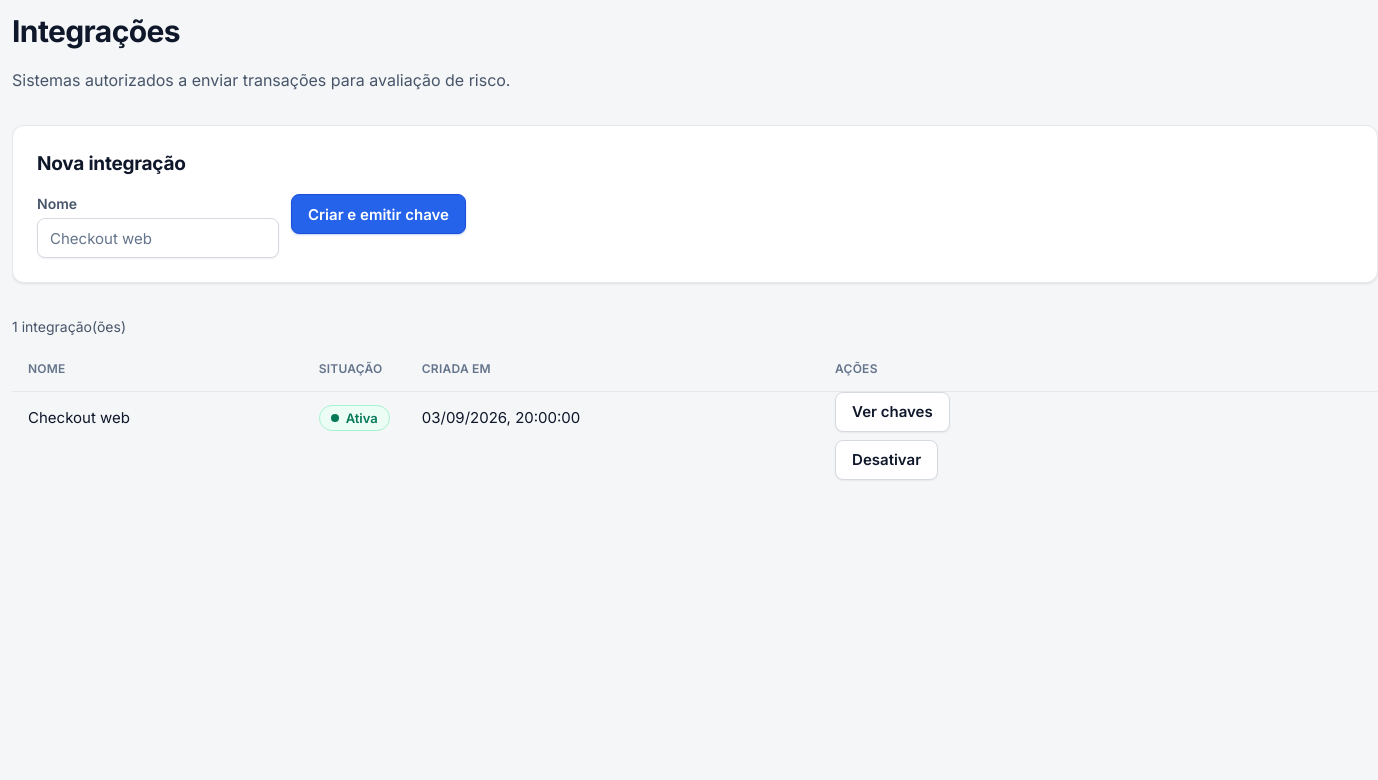
Test: PaginaDeIntegracoes › credencial revogada aparece com o motivo e sem botão de revogar
This screenshot has width=1378, height=780.
Expected: the column heading "Checkout web" is shown, [12,391,303,444]
Click the button "Ver chaves": {"x": 892, "y": 412} [835,392,950,432]
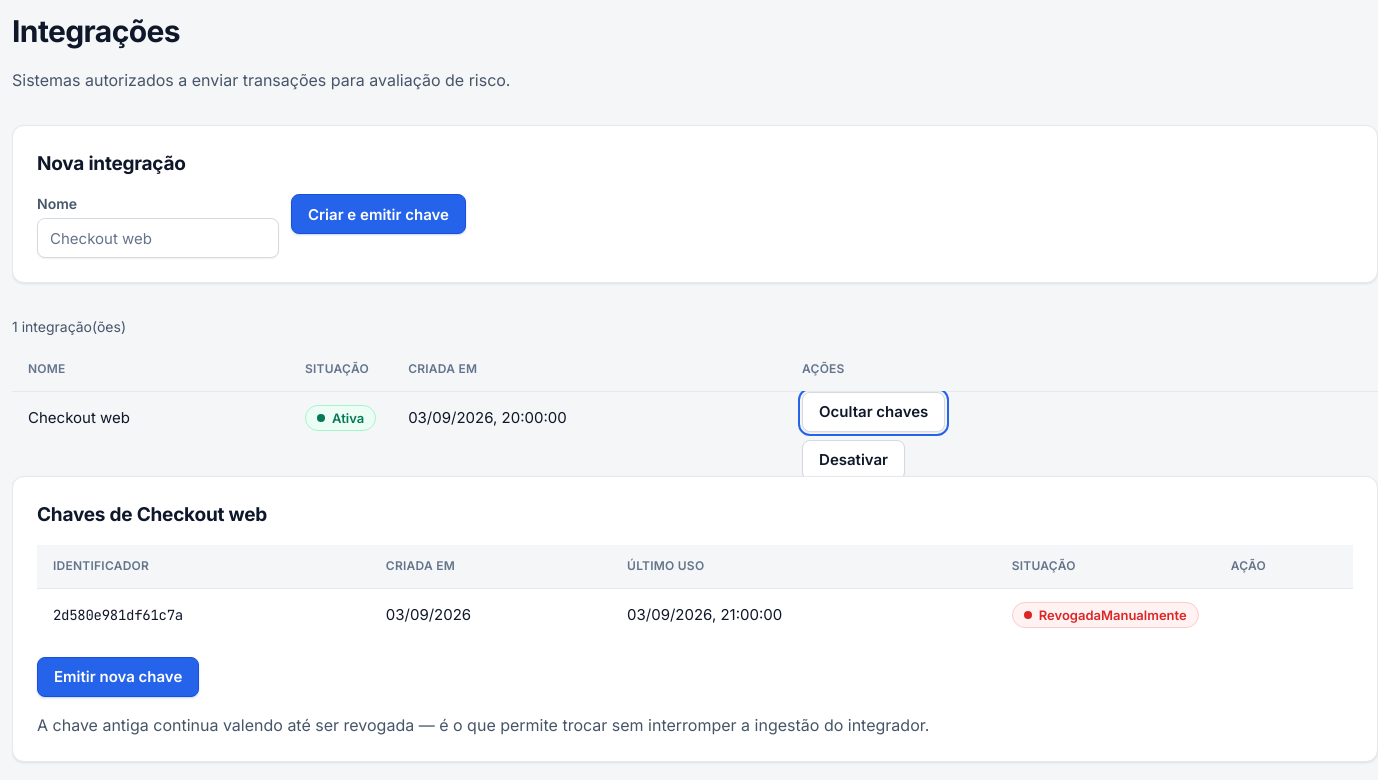
Expected: the text "RevogadaManualmente" is shown, [1012,602,1199,628]
